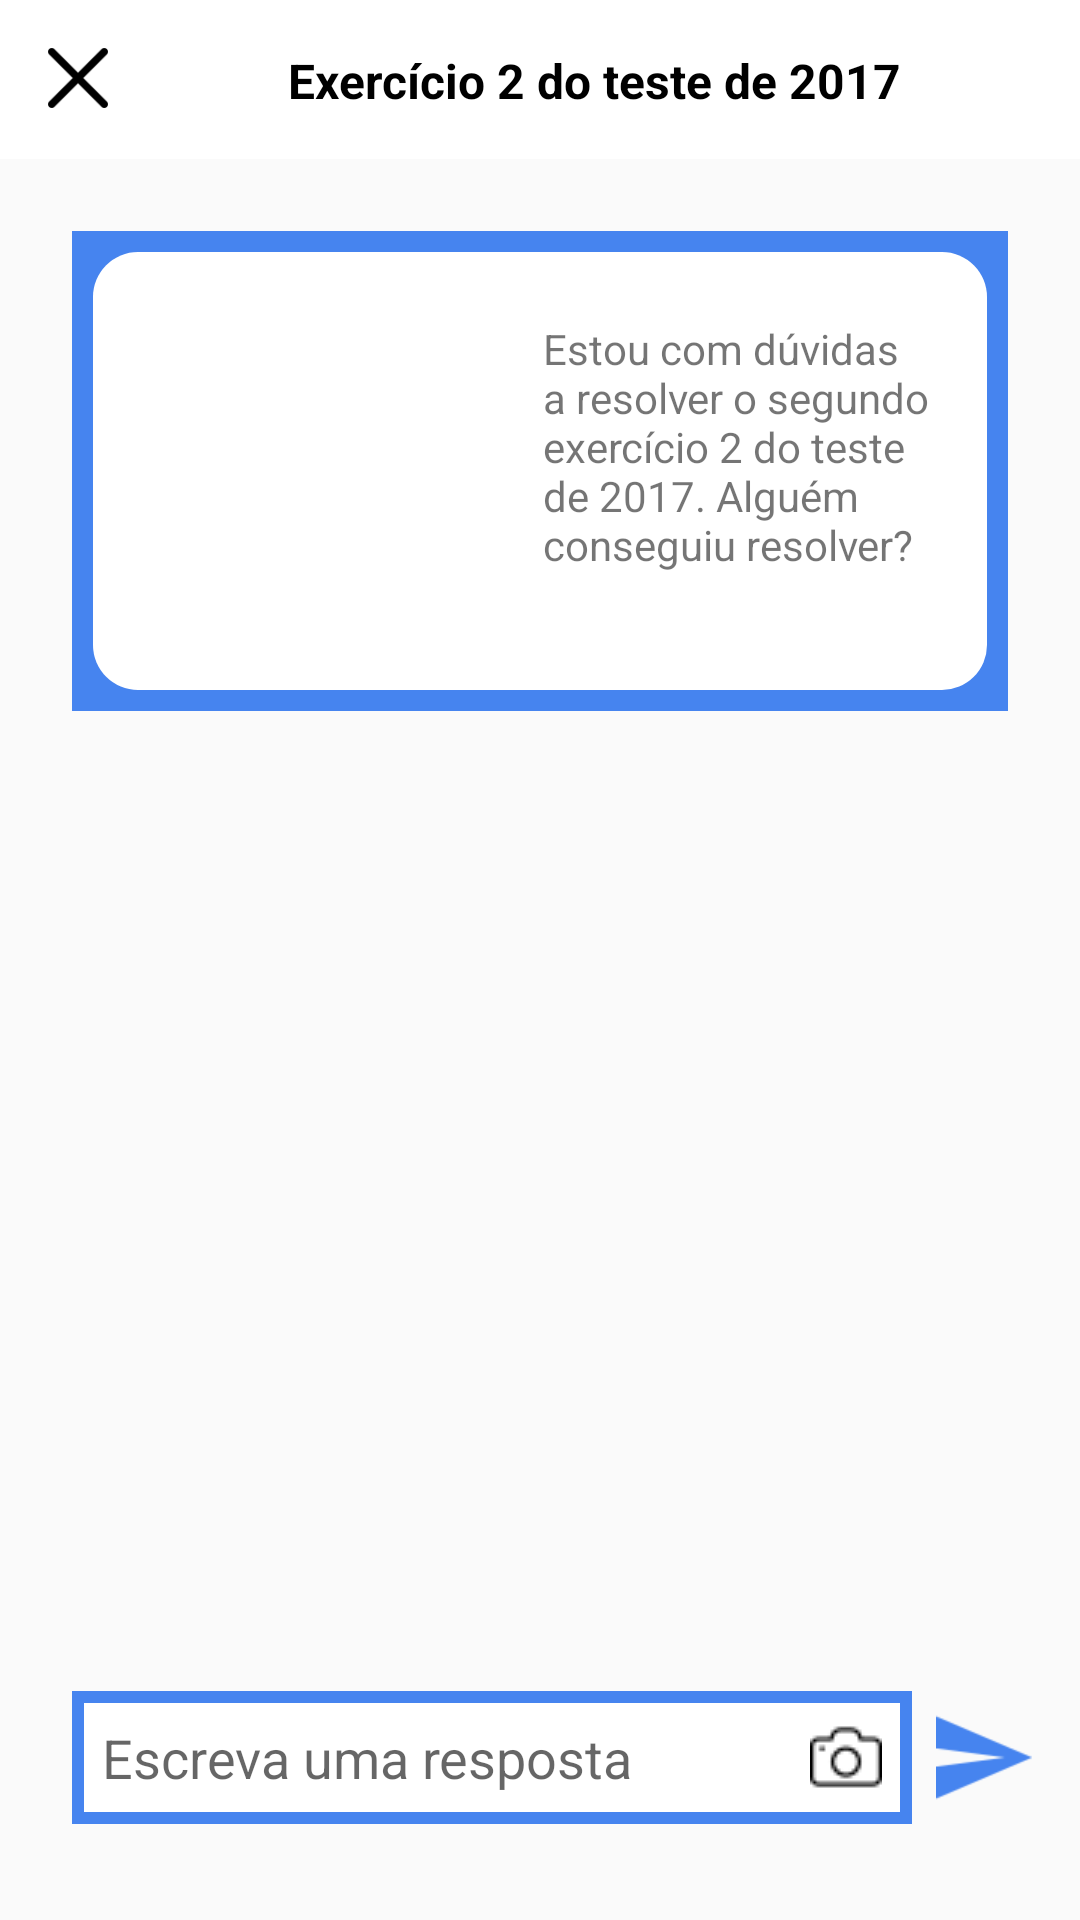

Icons on this 1080 × 1920 Android screen, each with the point to tap as (x=x, y=y):
close: (x=78, y=78)
sendcomment: (x=984, y=1757)
